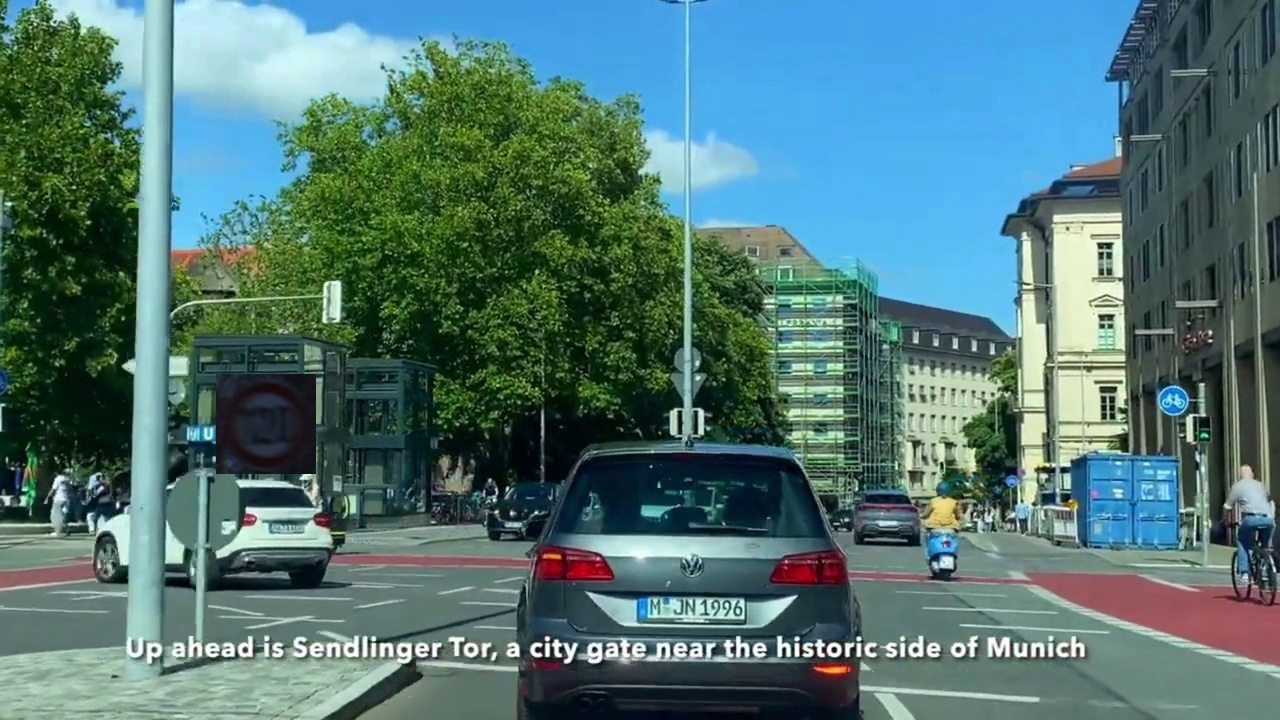Speed 120: (216, 374, 316, 474)
